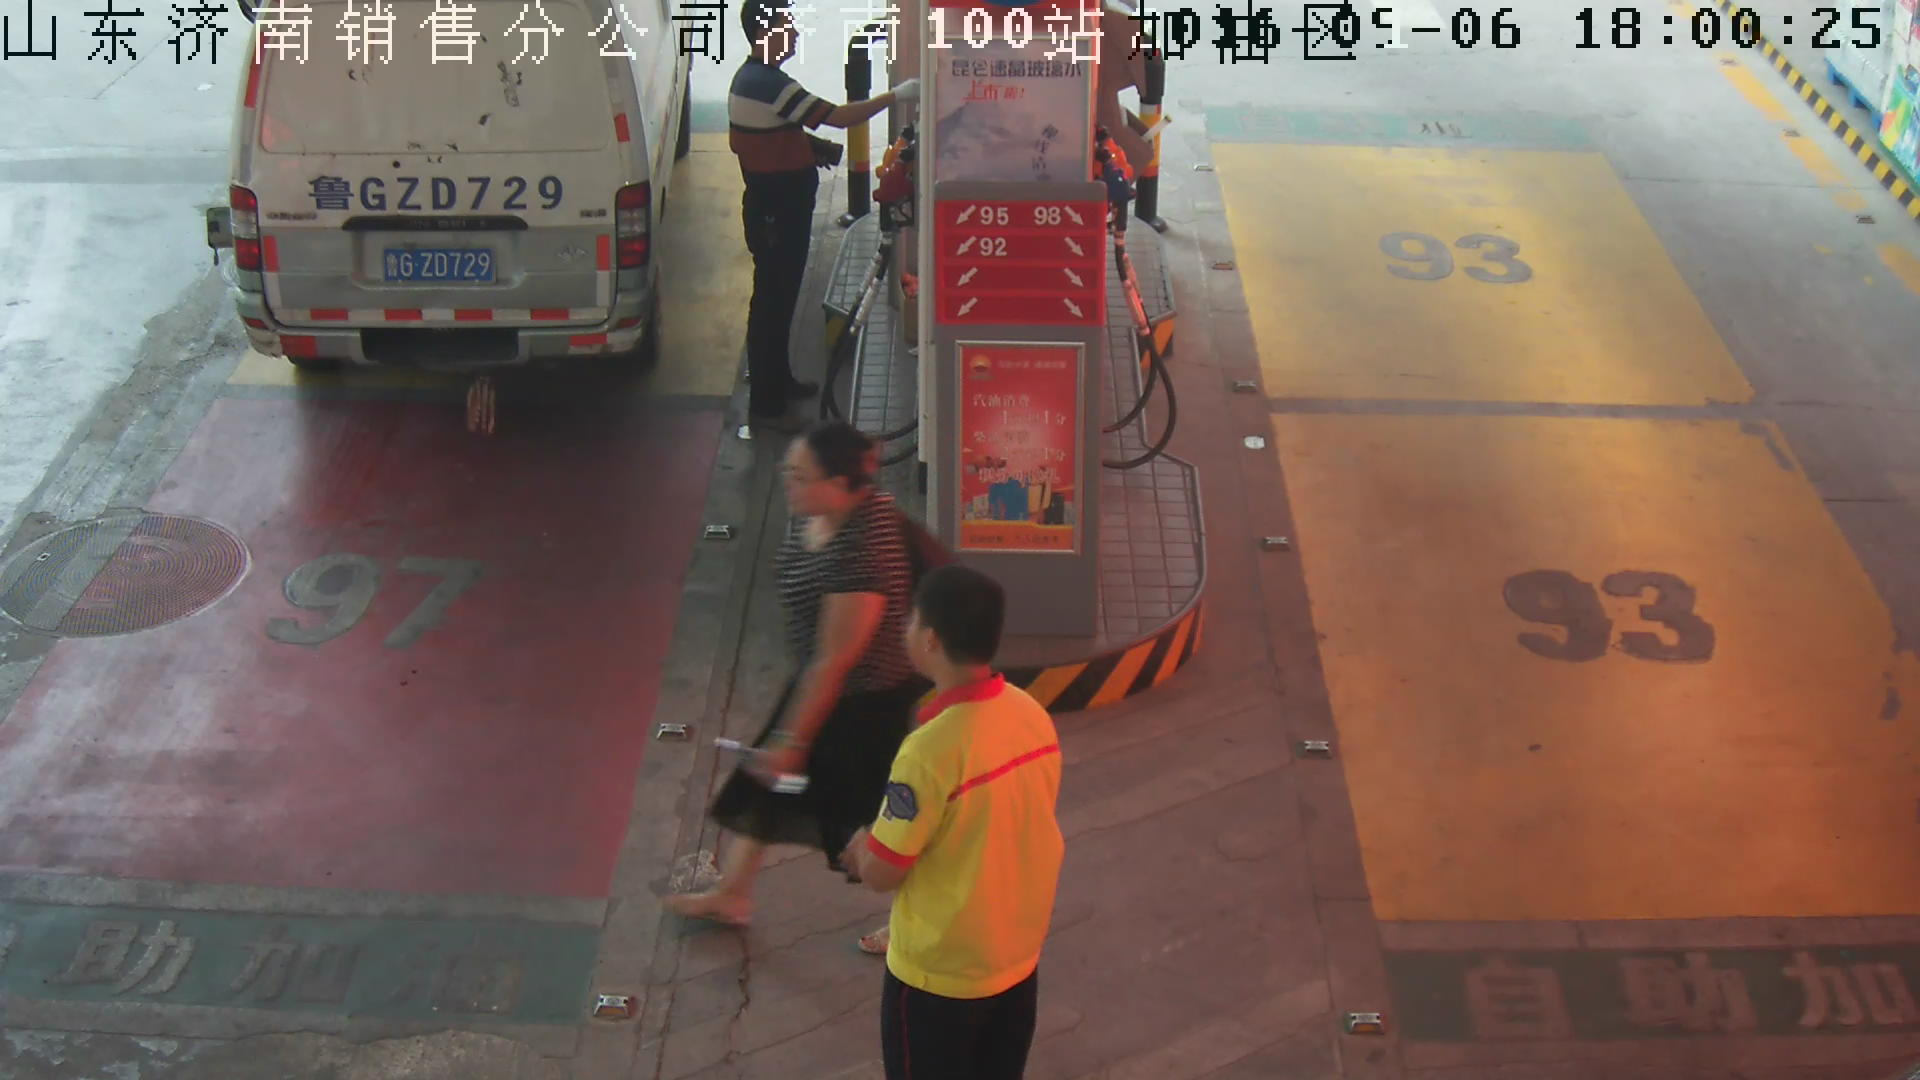blue: (382, 245, 496, 289)
